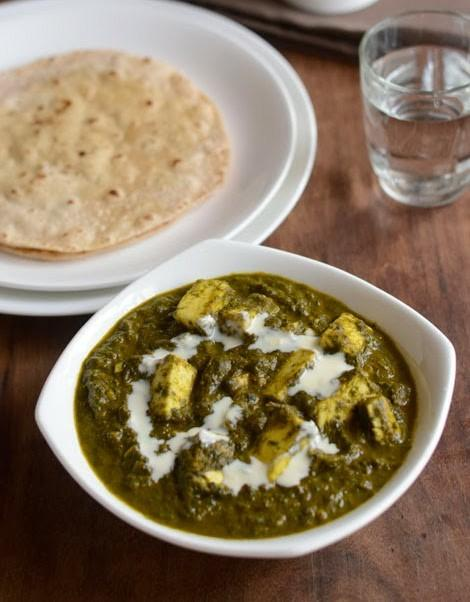PalakPaneer: (72, 275, 415, 541)
